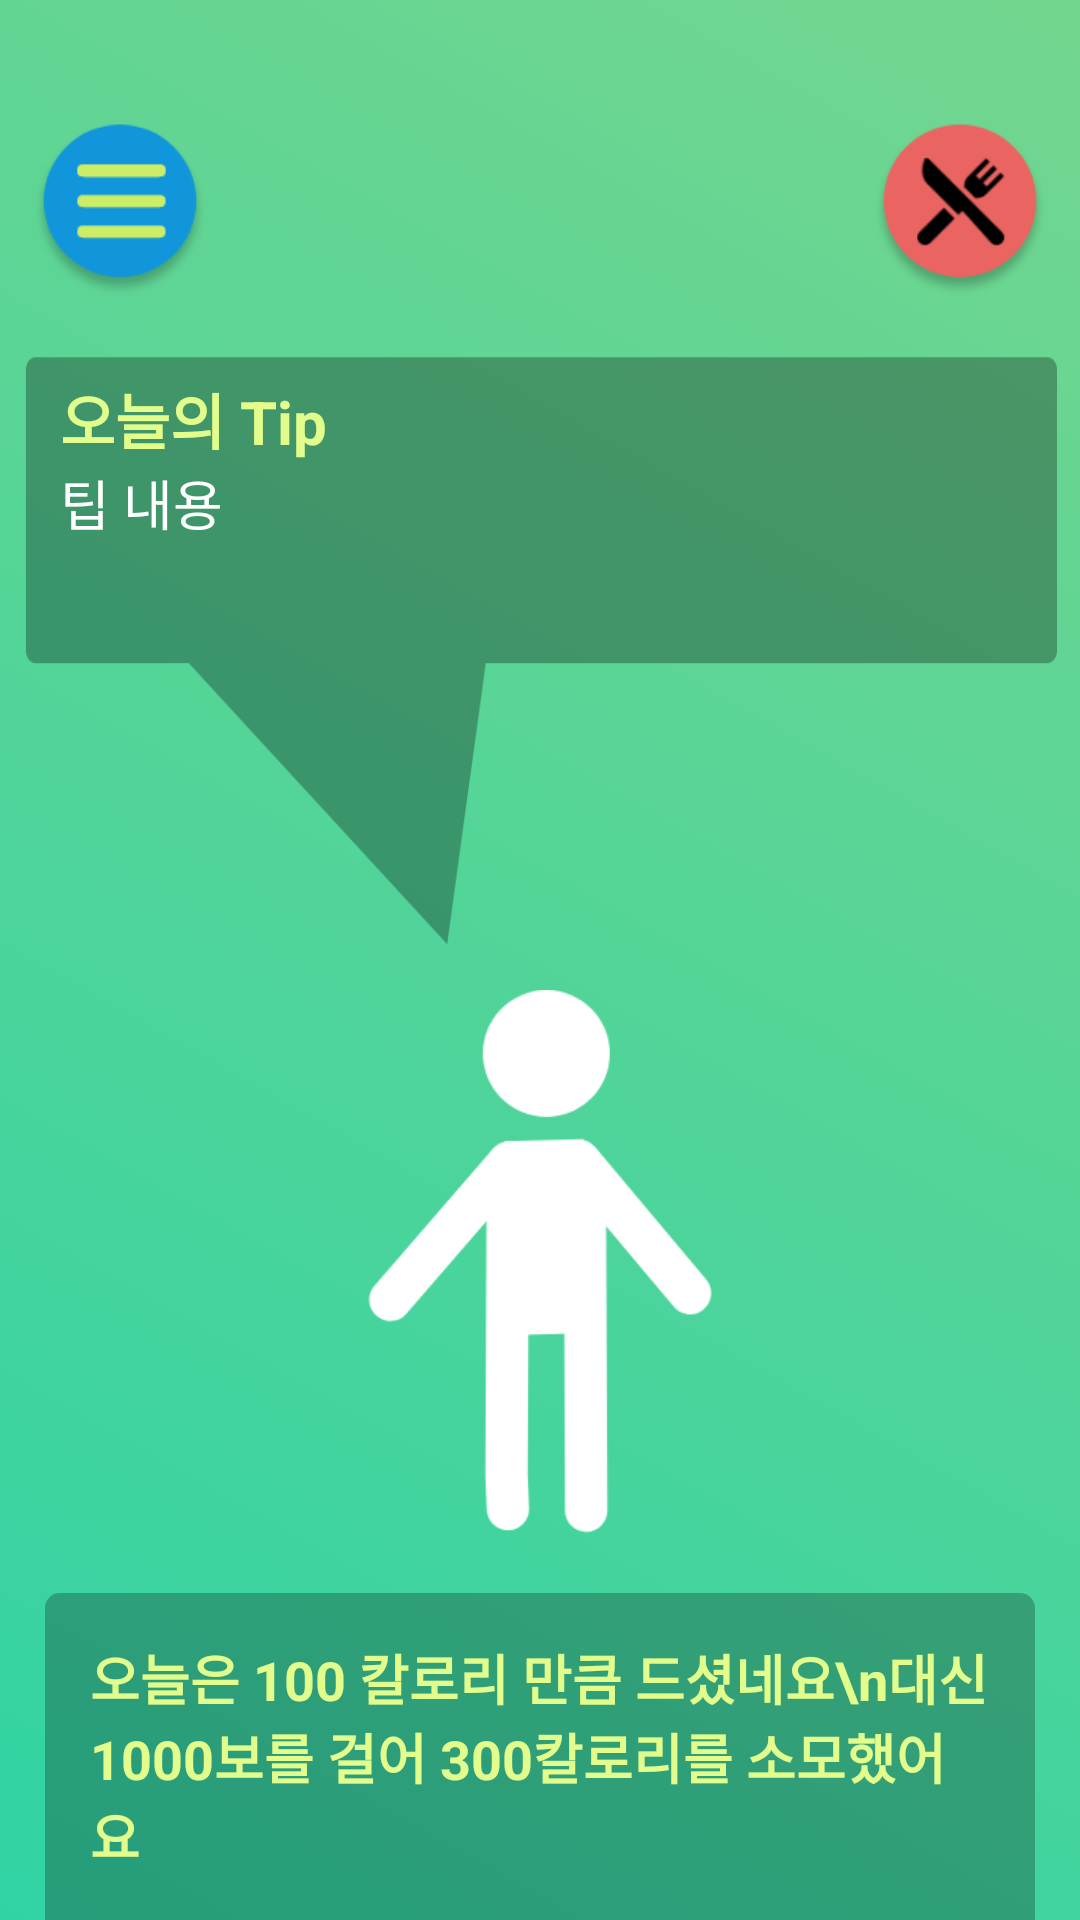

Point at icon controls on the screen. Image size 1080px x 1920px, points as (x=x, y=y).
meal: (x=960, y=205)
menu: (x=120, y=205)
